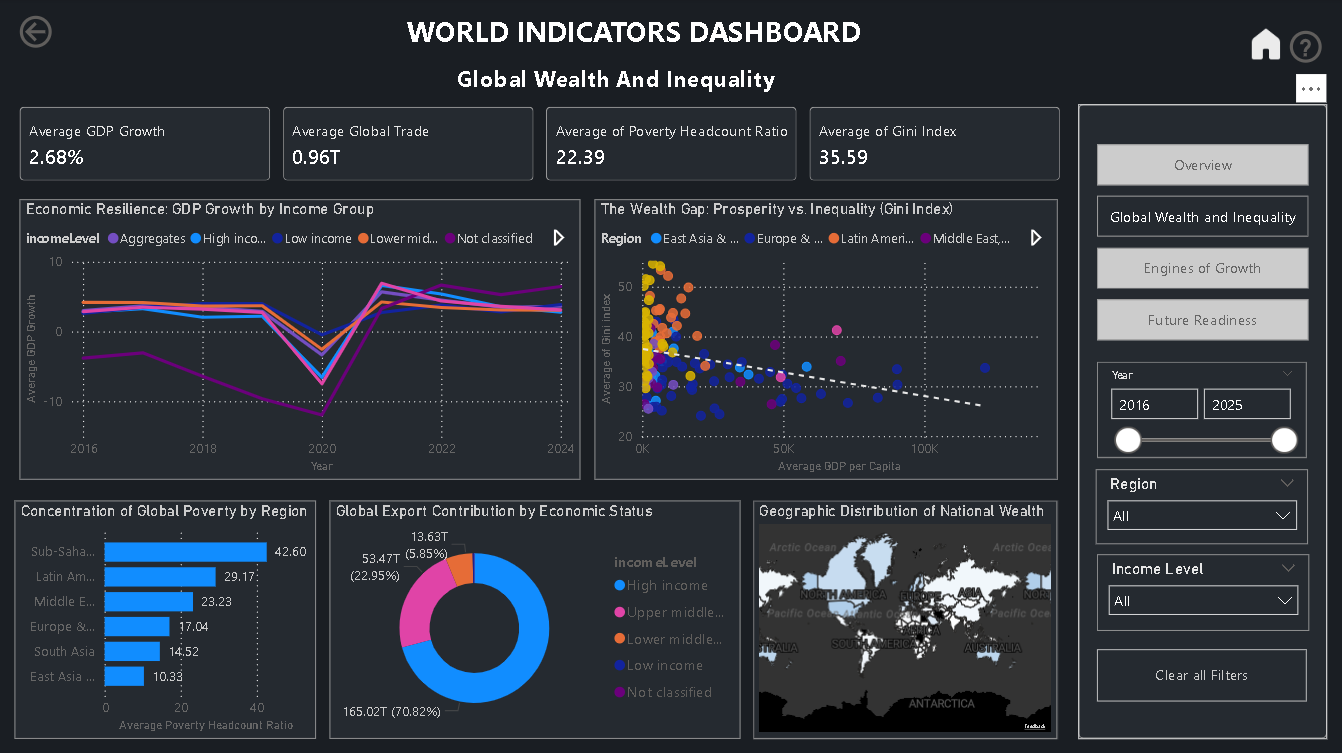

Layout of this report page (visuals, bound fields, positions):
{"tool":"powerbi","page":{"name":"Global Wealth and Inequality","canvas":[1280,720],"ordinal":1},"visuals":[{"type":"shape","box":[1027.5,101.2,236.2,602.5],"z":0},{"type":"textbox","box":[385,8.8,446.2,47.5],"z":1000},{"type":"textbox","box":[432.5,56.2,322.5,42.5],"z":2000},{"type":"cardVisual","fields":{"Data":["MeasureTable.Avg GDP Growth","Avg(trade.value)","Avg(Append.Poverty headcount ratio at national poverty lines (% of population))","Avg(Append.Gini index)"]},"box":[16.2,98.8,1000,80],"z":3000},{"type":"azureMap","title":"Geographic Distribution of National Wealth","fields":{"Category":["Append.country_value"]},"box":[718.8,477.5,288.8,226.2],"z":4000},{"type":"scatterChart","title":"The Wealth Gap: Prosperity vs. Inequality (Gini Index)","fields":{"X":["Avg(Append.GDP per capita (current US$))"],"Category":["Append.country_value"],"Y":["Avg(Append.Gini index)"],"Series":["Append.region"]},"box":[567.5,191.2,440,266.2],"z":5000},{"type":"clusteredBarChart","title":"Concentration of Global Poverty by Region","fields":{"Category":["Append.region"],"Y":["Avg(Append.Poverty headcount ratio at national poverty lines (% of population))"]},"box":[16.2,477.5,286.2,226.2],"z":6000},{"type":"lineChart","title":"Economic Resilience: GDP Growth by Income Group","fields":{"Y":["Avg(Append.GDP growth (annual %))"],"Category":["Append.year"],"Series":["Append.incomeLevel"]},"box":[21.2,191.2,532.5,266.2],"z":7000},{"type":"donutChart","title":"Global Export Contribution by Economic Status","fields":{"Category":["Append.incomeLevel"],"Y":["Sum(Append.Exports of goods and services (current US$))"]},"box":[316.2,477.5,390,226.2],"z":8000},{"type":"pageNavigator","box":[1045,138.8,201.2,188.8],"z":9000},{"type":"actionButton","box":[1223,26.1,40.4,40.4],"z":10000},{"type":"image","box":[1187.4,26.1,35.6,35.6],"z":11000},{"type":"actionButton","box":[16.6,11.9,40.4,40.4],"z":12000},{"type":"slicer","fields":{"Values":["Append.region"]},"box":[1043.7,447.6,201.9,71.2],"z":13000},{"type":"slicer","fields":{"Values":["labour_market.year","Append.year"]},"box":[1044.9,345.5,199.5,91.4],"z":14000},{"type":"slicer","fields":{"Values":["Append.incomeLevel"]},"box":[1044.9,528.4,201.9,72.4],"z":15000},{"type":"actionButton","box":[1044.9,618.6,199.5,49.9],"z":16000}]}

Visuals, with their boxes in screenshot pixels (x1, y1, x2, y2), scaled from the page's 1280x720 canvas onto the 1342x753 screenshot:
shape: bbox=[1077, 106, 1325, 736]
textbox: bbox=[404, 9, 871, 59]
textbox: bbox=[453, 59, 792, 103]
cardVisual - MeasureTable.Avg GDP Growth x Avg(trade.value): bbox=[17, 103, 1065, 187]
"Geographic Distribution of National Wealth" azureMap: bbox=[754, 499, 1056, 736]
"The Wealth Gap: Prosperity vs. Inequality (Gini Index)" scatterChart: bbox=[595, 200, 1056, 478]
"Concentration of Global Poverty by Region" clusteredBarChart: bbox=[17, 499, 317, 736]
"Economic Resilience: GDP Growth by Income Group" lineChart: bbox=[22, 200, 581, 478]
"Global Export Contribution by Economic Status" donutChart: bbox=[332, 499, 740, 736]
pageNavigator: bbox=[1096, 145, 1307, 343]
actionButton: bbox=[1282, 27, 1325, 70]
image: bbox=[1245, 27, 1282, 65]
actionButton: bbox=[17, 12, 60, 55]
slicer - Append.region: bbox=[1094, 468, 1306, 543]
slicer - labour_market.year x Append.year: bbox=[1096, 361, 1305, 457]
slicer - Append.incomeLevel: bbox=[1096, 553, 1307, 628]
actionButton: bbox=[1096, 647, 1305, 699]
